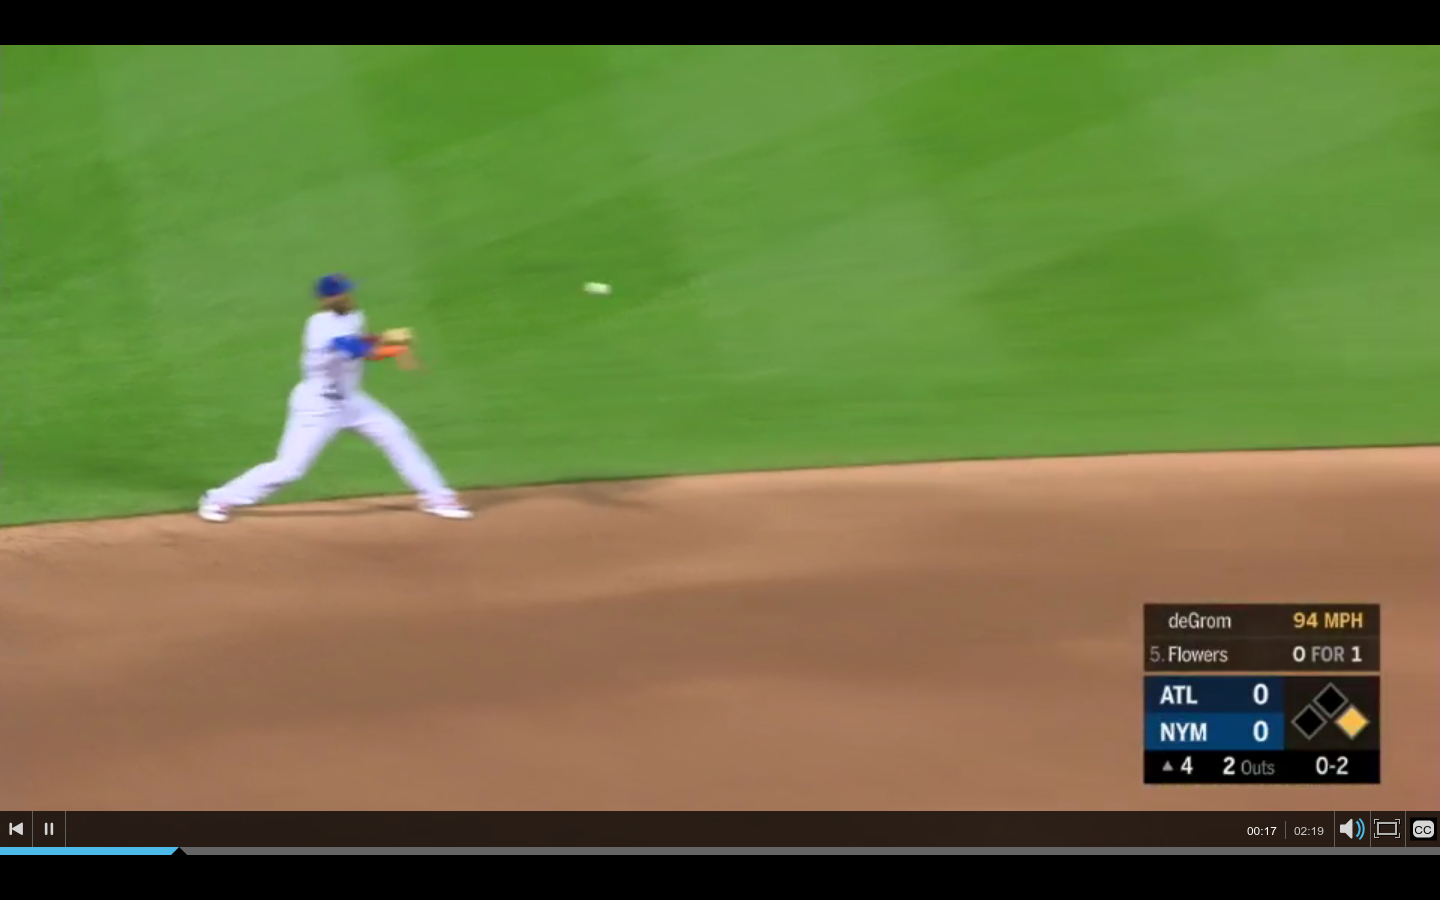baseball: (581, 277, 613, 300)
baseball player: (198, 260, 478, 529)
